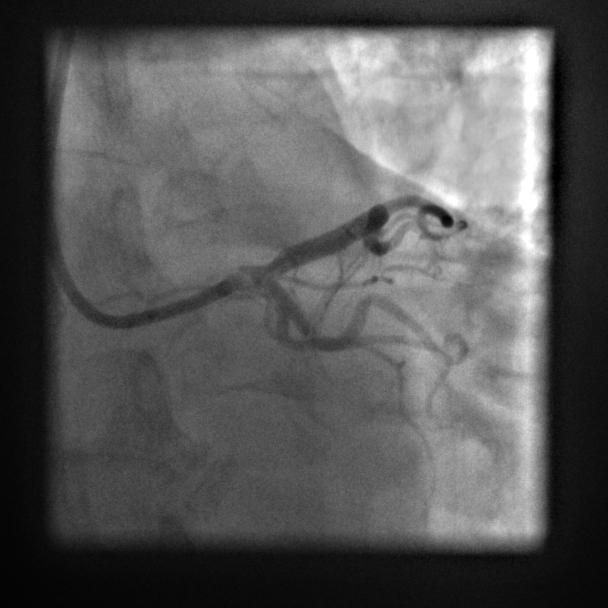Stenosis: (255, 251, 291, 276)
